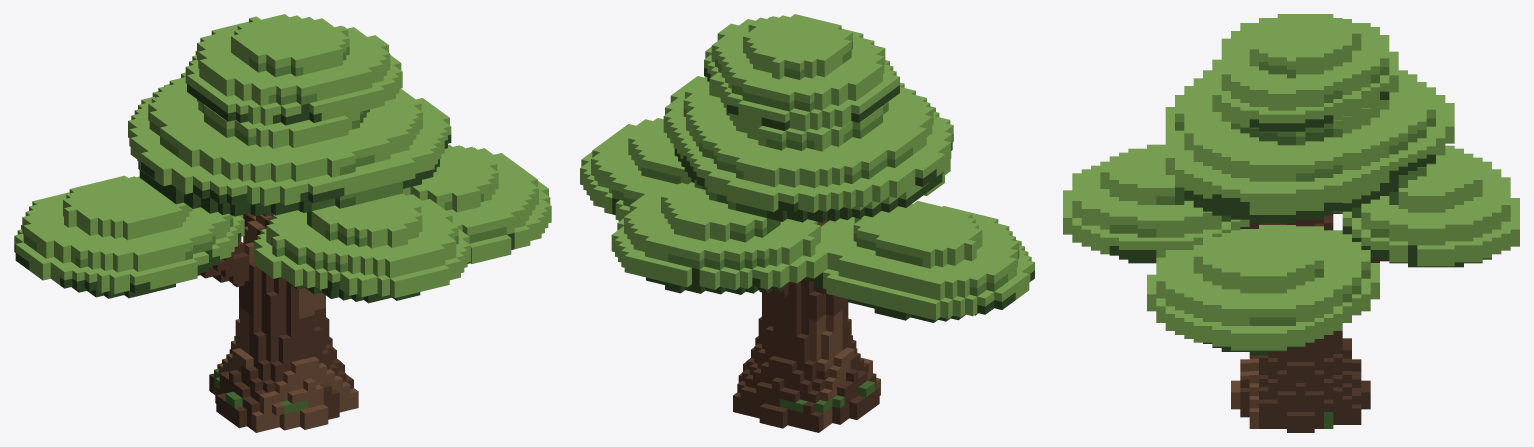
Rendered from Mountain_Oak_v3_B.fbx.
The picture shows the model from 3 angles, left to right: view 1: azimuth 30°, elevation 25°; view 2: azimuth 150°, elevation 25°; view 3: azimuth 270°, elevation 25°; orthographic projection. The views are drawn at different scales.
Parts seen in each view (by area): view 1: Mountain_Oak_v3_B; view 2: Mountain_Oak_v3_B; view 3: Mountain_Oak_v3_B.
Part boxes in pixels (x1,y1,x2,y2): Mountain_Oak_v3_B: (14, 14, 551, 432); Mountain_Oak_v3_B: (580, 14, 1034, 432); Mountain_Oak_v3_B: (1063, 14, 1519, 432).
Bounding box in the file's own units: 3.93 × 2.93 × 3.27.
Materials: 1 (1 with a texture image).
